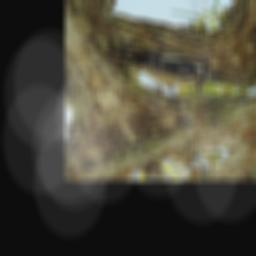Woodpecker: (105, 18, 222, 116)
